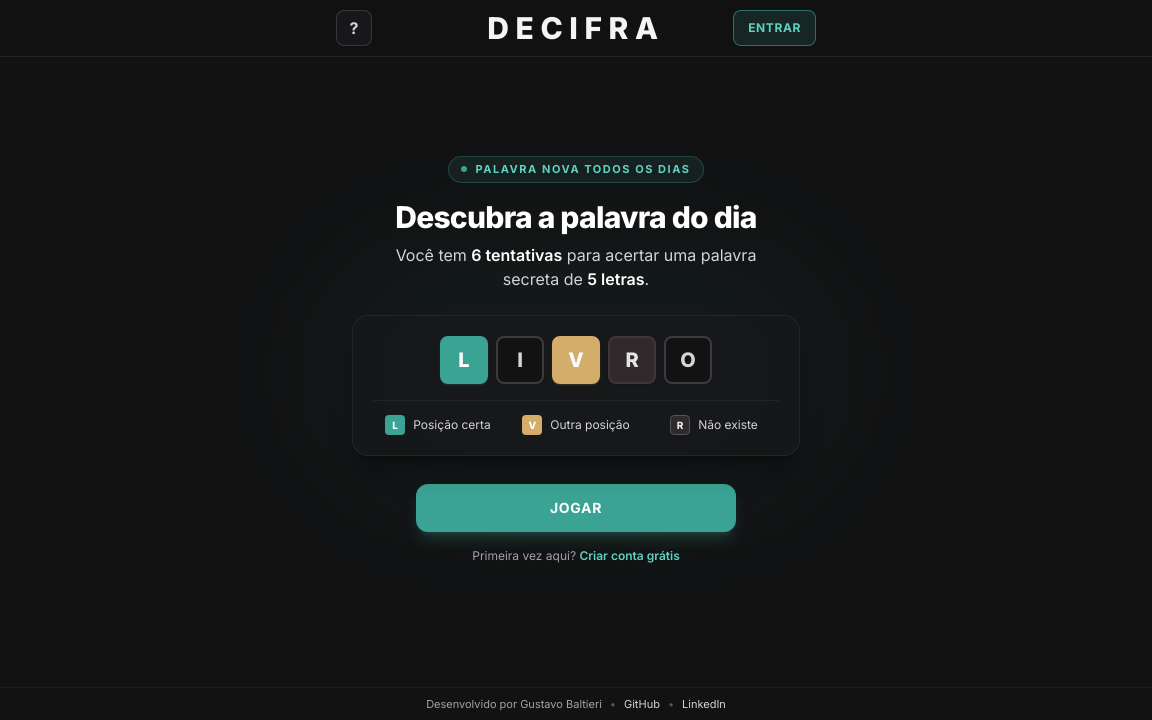
Test: Autenticação (Login, Cadastro e Logout) › exibe tela inicial limpa com exemplo de 5 letras, CTA Jogar, botão Entrar no header e abre/fecha modal de login
Check: the heading "DECIFRA" is shown, box [487,10,665,46]
Check: the heading "Descubra a palavra do dia" is shown, box [395,198,757,234]
# Abre modal pelo botão Entrar do header
Click the button "Entrar".
click(775, 28)  # box [733,10,816,46]
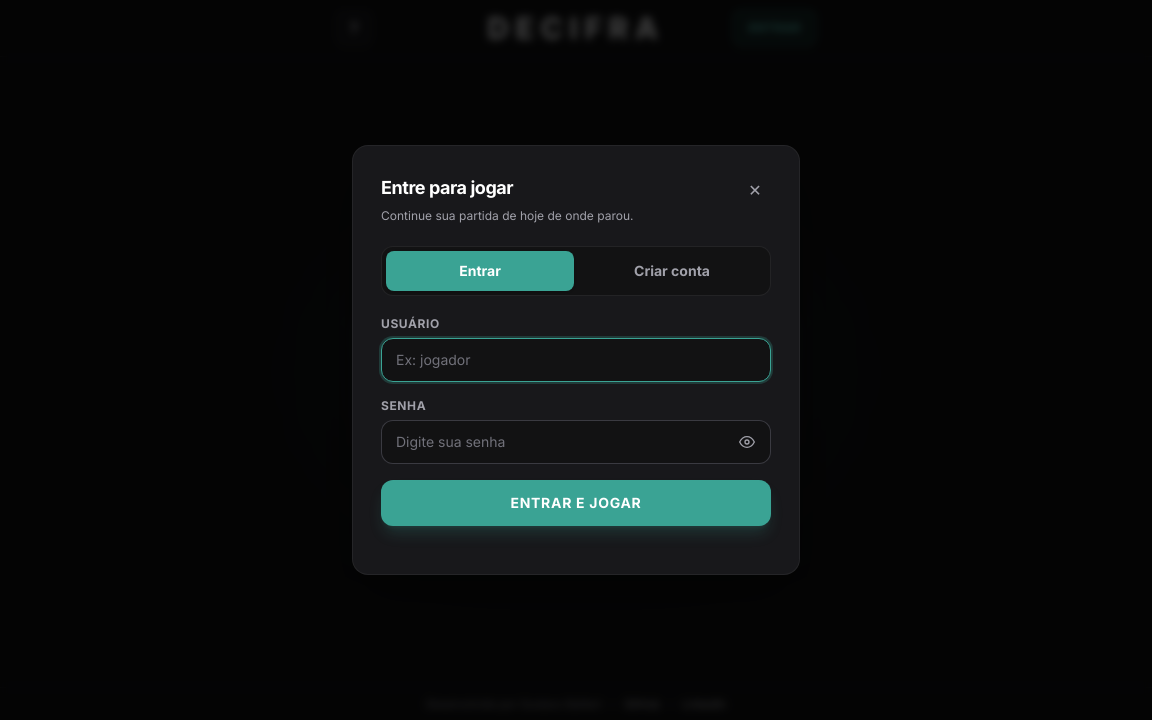
Check: the dialog is shown
Click the button named "mostrar caracteres".
click(747, 442)  # box [729,424,765,460]
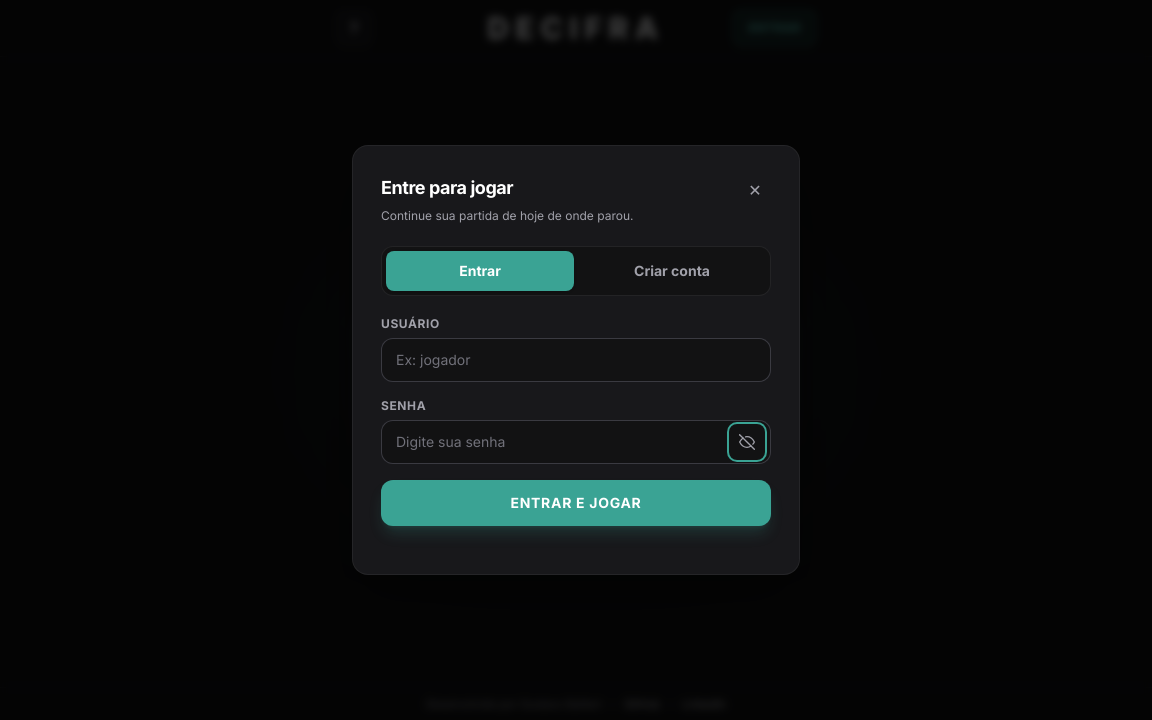
Click the button named "ocultar caracteres".
click(747, 442)  # box [729,424,765,460]
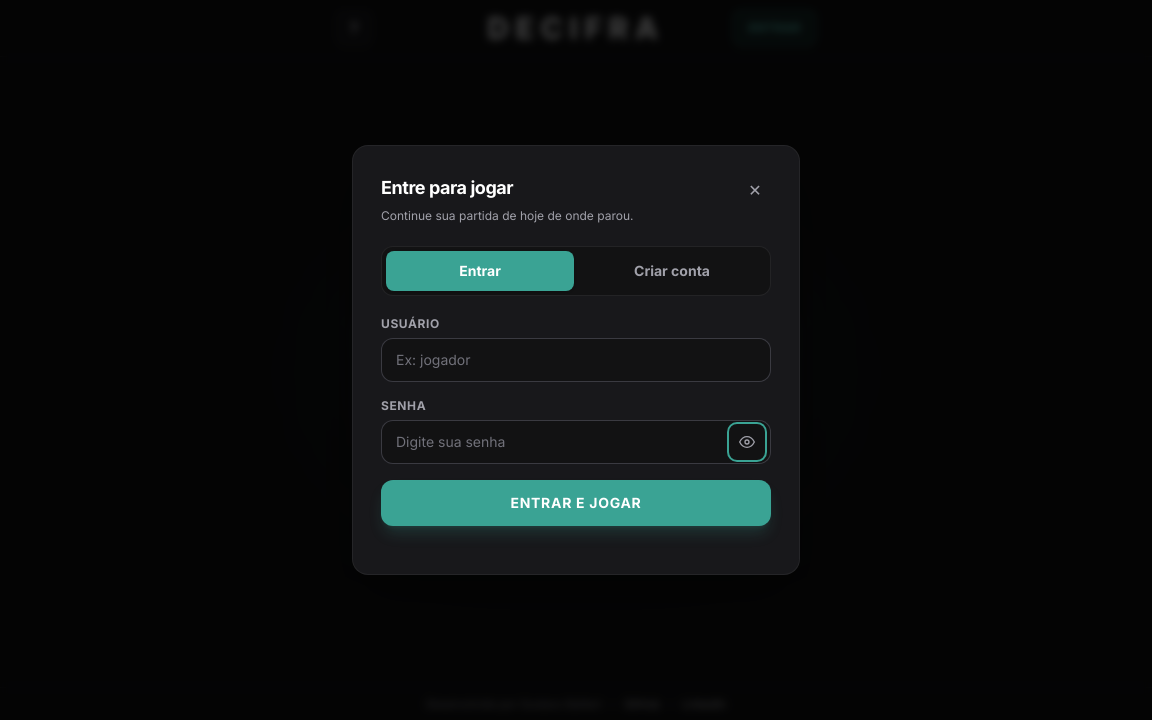
# Fecha o modal pelo botão X
Click the button named "fechar modal de acesso".
click(755, 190)  # box [739,174,771,206]
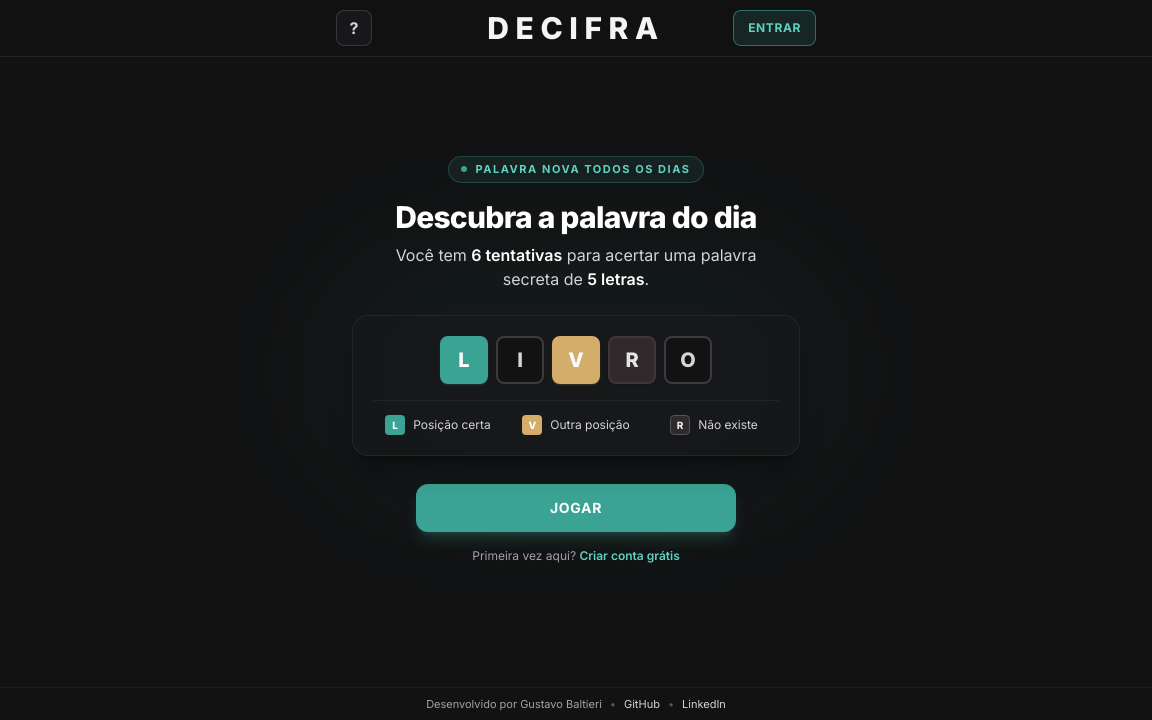
Check: the dialog is gone
